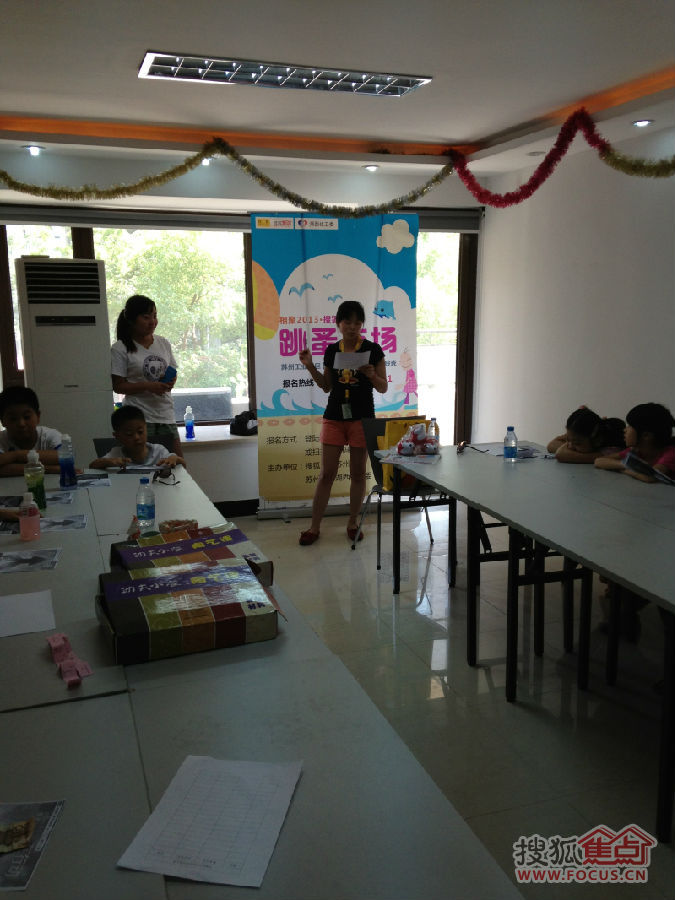handsup: (287, 299, 399, 552)
other: (102, 287, 194, 463)
